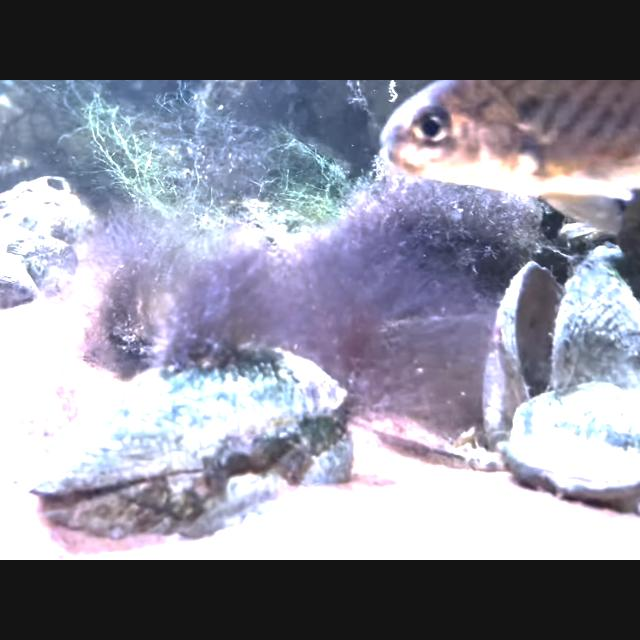Oyster-Closed: (502, 380, 640, 500)
Oyster-Open: (30, 342, 352, 540), (480, 255, 640, 459)
